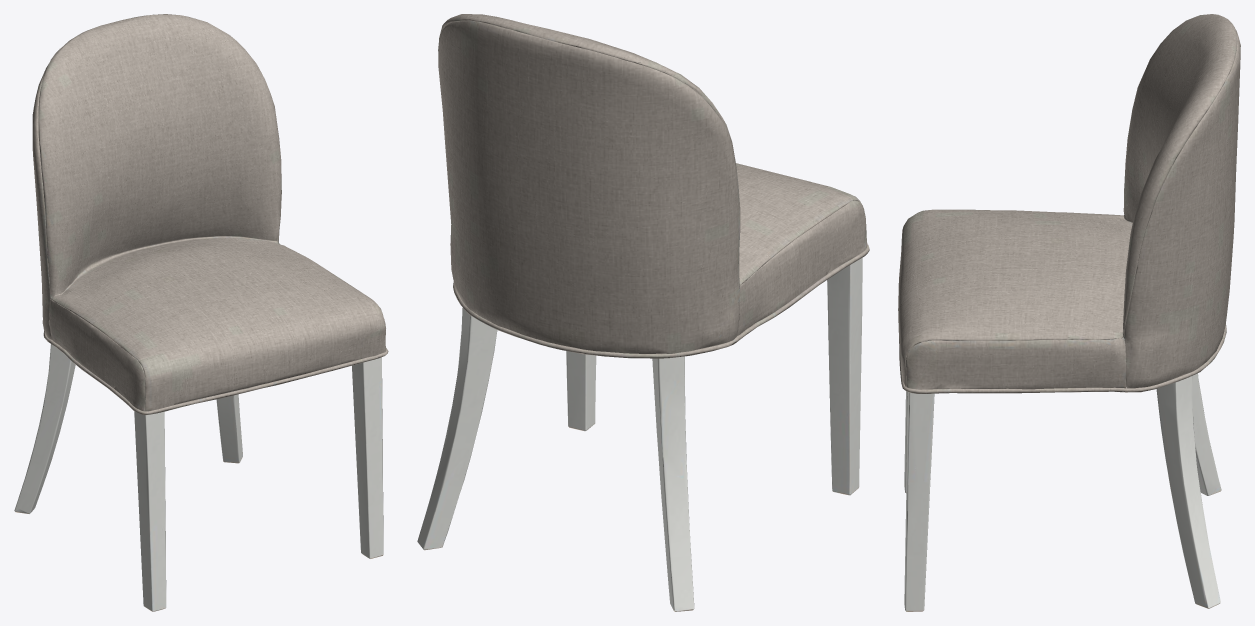
The model's file is rosentorp_krzeso_10614169.glb.
3 views of the same model, side by side, from view 1: azimuth 30°, elevation 25°; view 2: azimuth 150°, elevation 25°; view 3: azimuth 270°, elevation 25° (orthographic). The views are drawn at different scales.
Visible parts, largest first — view 1: rosentorp_krzeso_10614169; view 2: rosentorp_krzeso_10614169; view 3: rosentorp_krzeso_10614169.
Boxes of the visible parts, x1,y1,x2,y2 form: rosentorp_krzeso_10614169: (14,14,388,611); rosentorp_krzeso_10614169: (417,14,869,611); rosentorp_krzeso_10614169: (898,14,1240,611).
Size of the model in its own units: 0.5061 by 0.8764 by 0.5366.
1 material, 1 textured.
